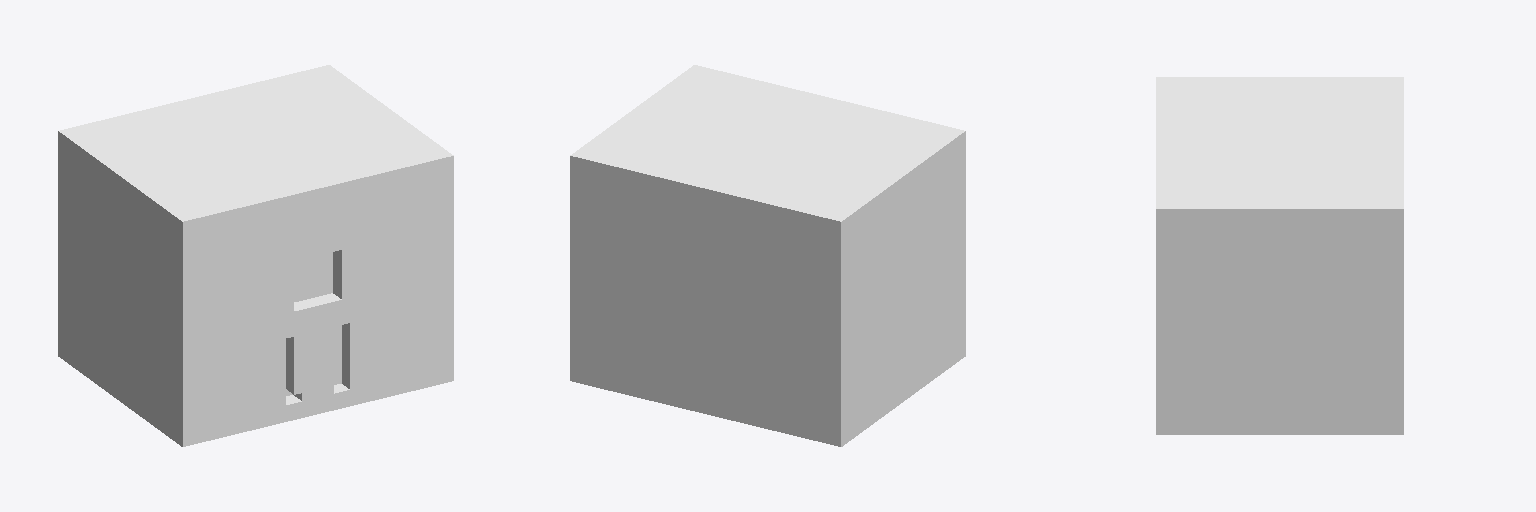
The model's file is enderman-3.obj.
3 views of the same model, side by side, from view 1: azimuth 30°, elevation 25°; view 2: azimuth 150°, elevation 25°; view 3: azimuth 270°, elevation 25° (orthographic).
Visible parts, largest first — view 1: object 1; view 2: object 1; view 3: object 1.
Part boxes in pixels (x1,y1,x2,y2): object 1: (58,65,453,446); object 1: (570,65,965,446); object 1: (1156,77,1403,434).
Size of the model in its own units: 3.4 by 2.7 by 2.7.